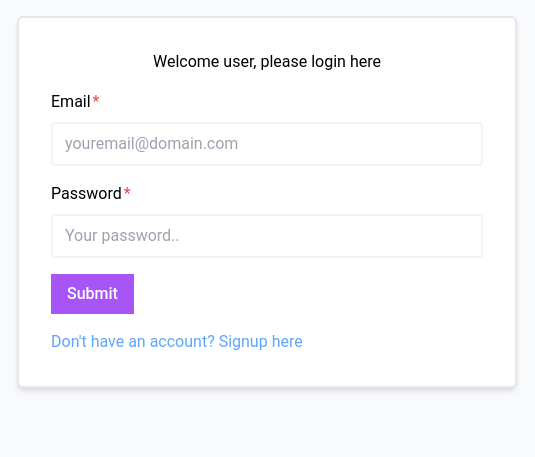
LoginForm Component › displays validation errors
The width and height of the screenshot is (535, 457).
Click the button "Submit": (92, 294) [51,274,134,314]
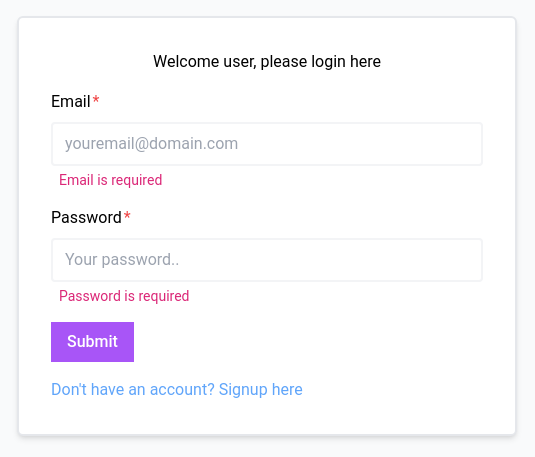
Expected: the text "Email is required" is shown, [59,172,162,188]
Expected: the text "Password is required" is shown, [59,288,190,304]
